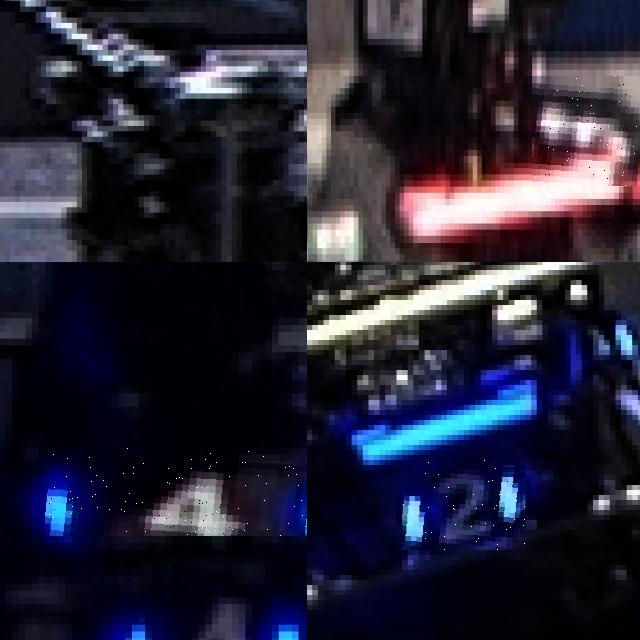B2: (402, 460, 526, 550)
B4: (45, 447, 307, 536), (112, 597, 298, 640)
R3: (532, 75, 640, 186)
